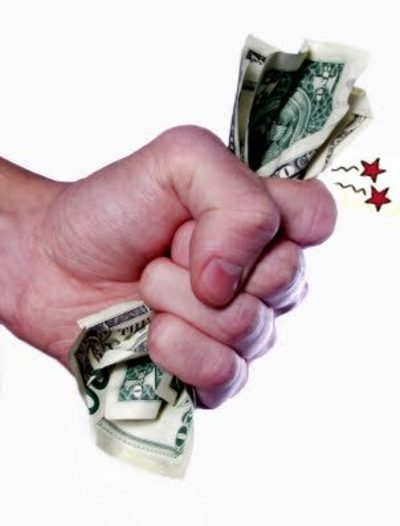closedhandfront: (47, 103, 352, 436)
